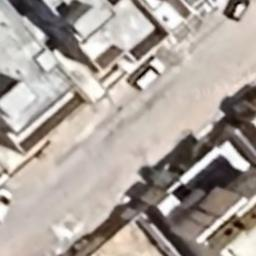unknown: (222, 0, 250, 24)
van: (126, 54, 168, 94), (0, 187, 14, 225)
